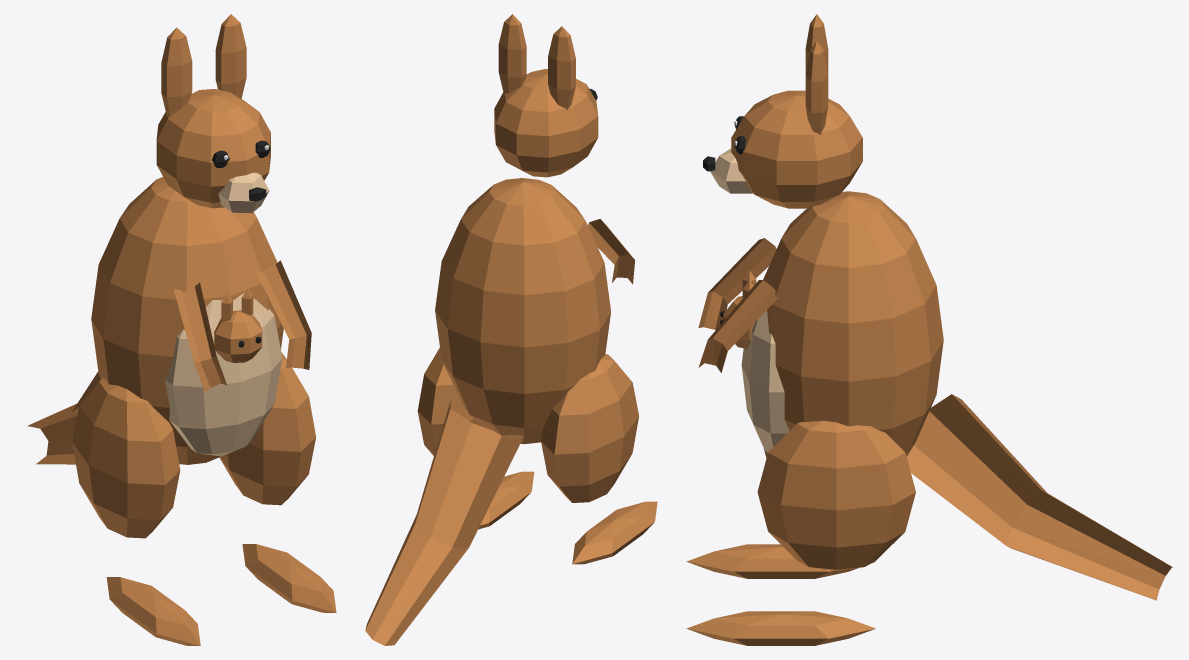
Rendered from kanguru.glb.
3 views of the same model, side by side, from view 1: azimuth 30°, elevation 25°; view 2: azimuth 150°, elevation 25°; view 3: azimuth 270°, elevation 25° (orthographic). The views are drawn at different scales.
Visible parts, largest first — view 1: kanguru; view 2: kanguru; view 3: kanguru.
Boxes of the visible parts, x1,y1,x2,y2 form: kanguru: (27,14,336,645); kanguru: (365,14,657,645); kanguru: (686,14,1173,645).
Size of the model in its own units: 0.62 by 1.62 by 1.23.
